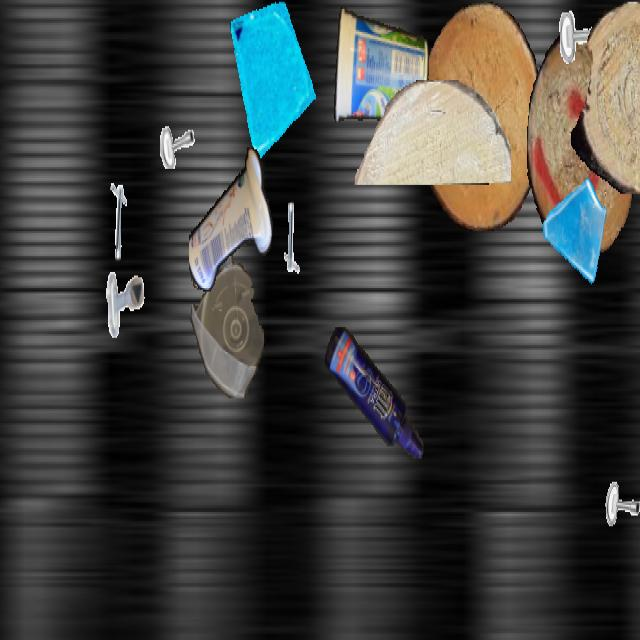glass: (229, 2, 321, 165), (541, 172, 609, 294)
metal: (553, 2, 613, 108), (97, 180, 151, 276), (148, 76, 200, 169), (261, 188, 311, 278), (599, 439, 640, 532), (104, 263, 146, 338)
plastic: (325, 327, 423, 459), (189, 144, 273, 297), (332, 2, 428, 126), (190, 240, 264, 396)
wood: (419, 2, 543, 229), (527, 36, 635, 252), (354, 80, 510, 183), (571, 2, 640, 194)
